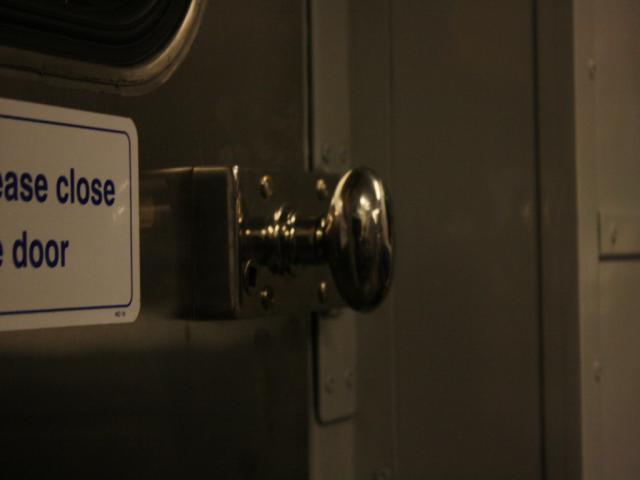Door-handle: (192, 162, 396, 321)
